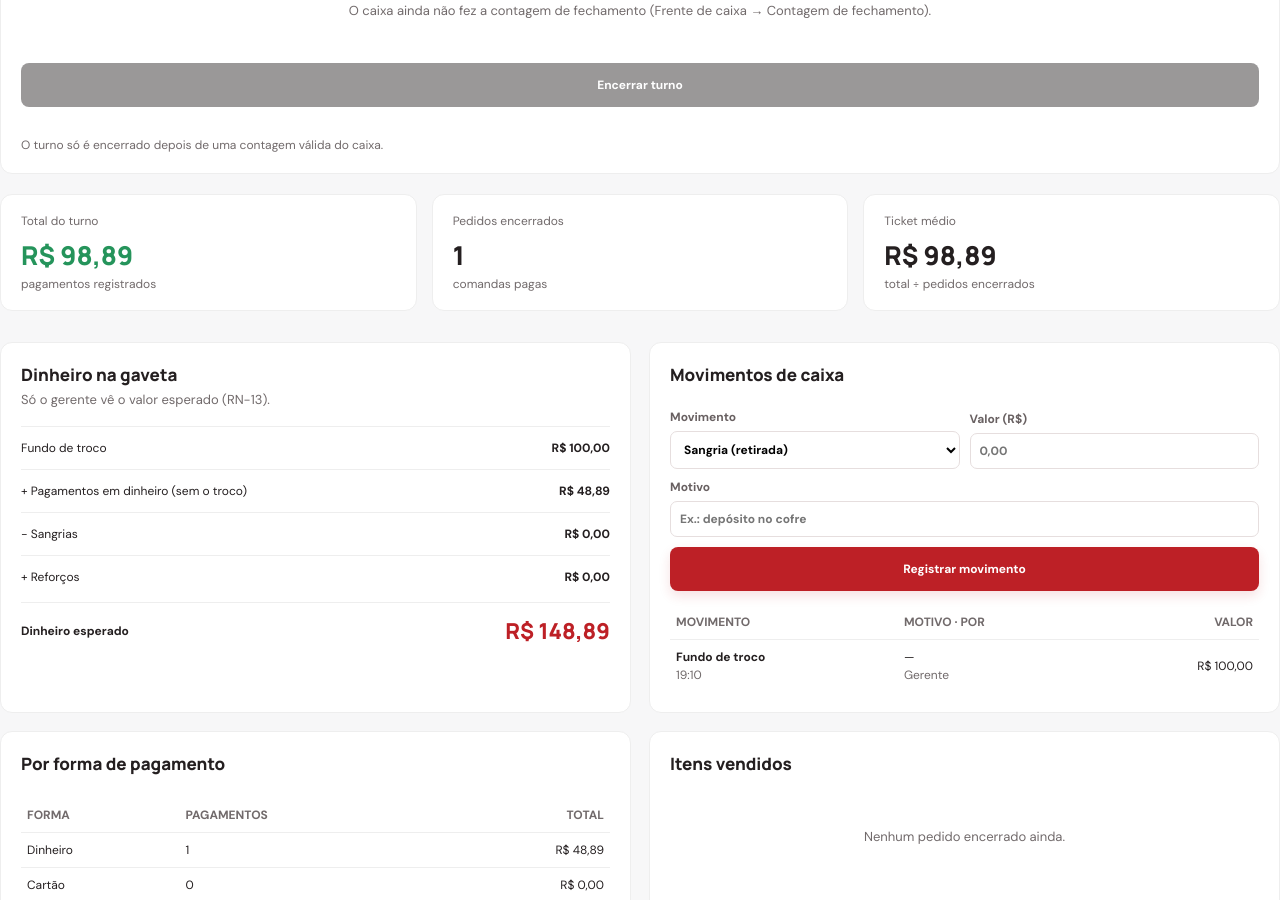
Movimentos de caixa nas telas (RN-13) › Gerente vê o dinheiro esperado no relatório e registra reforço no turno aberto
This screenshot has width=1280, height=900.
(page scrolled)
Check: the text "R$ 148,89" is shown, box [505,616,610,646]
Select "Reforço (suprimento)" in the dropdown labelled "Movimento" at (815, 450), box [670,431,960,469]
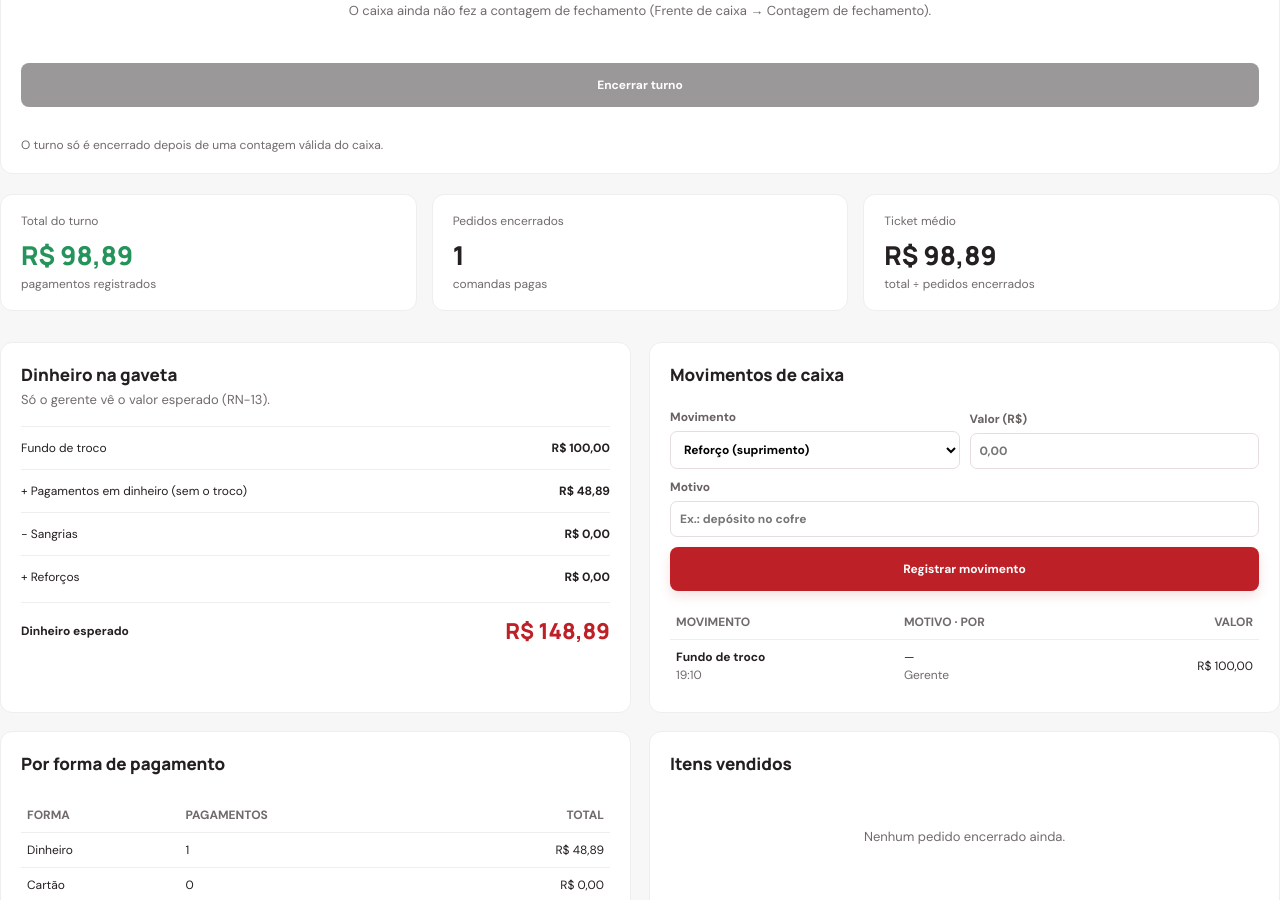
Type "20" into the number field labelled "Valor (R$)" at (1114, 451), box [970,433,1259,469]
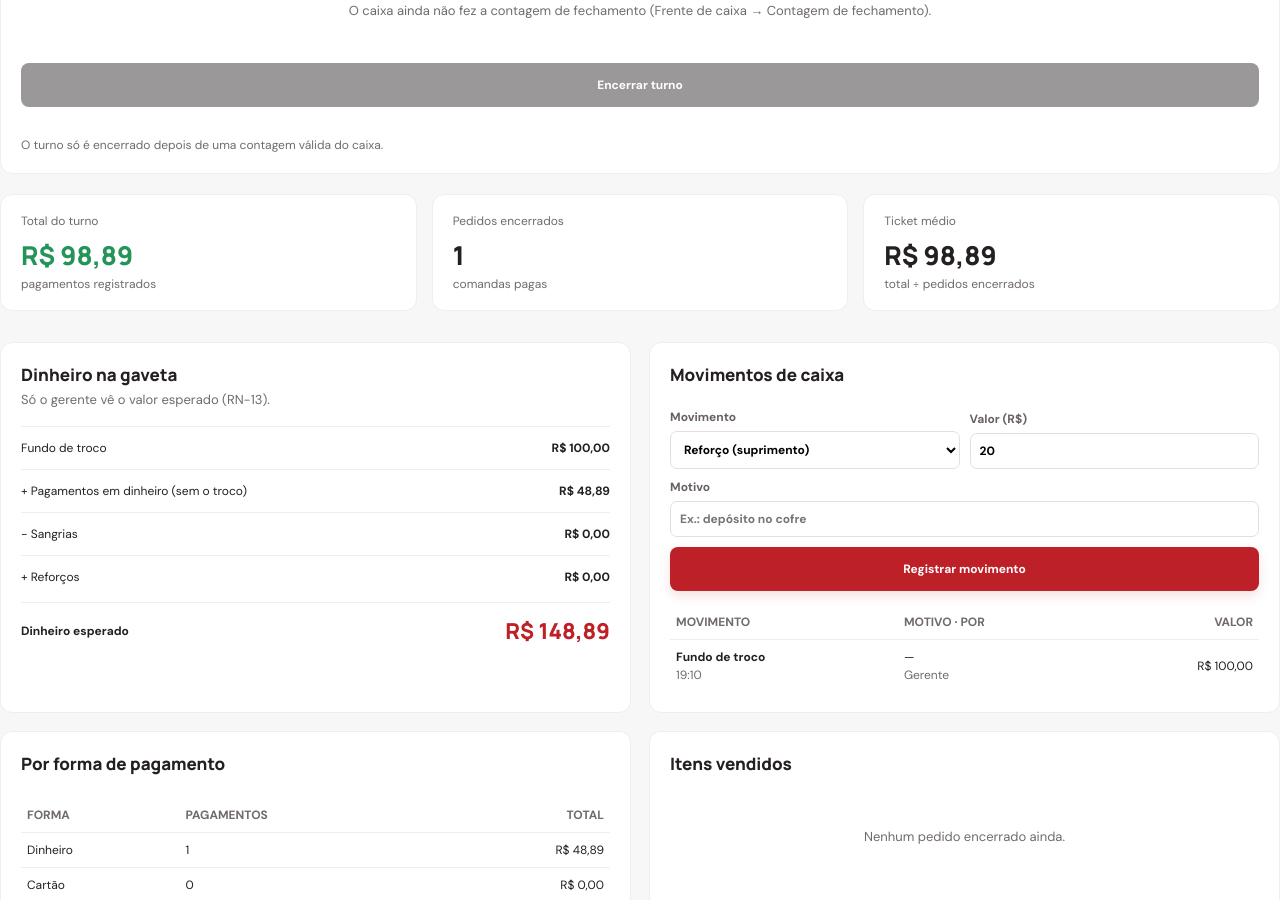
Type "Moedas" into the field labelled "Motivo" at (964, 519), box [670,501,1259,537]
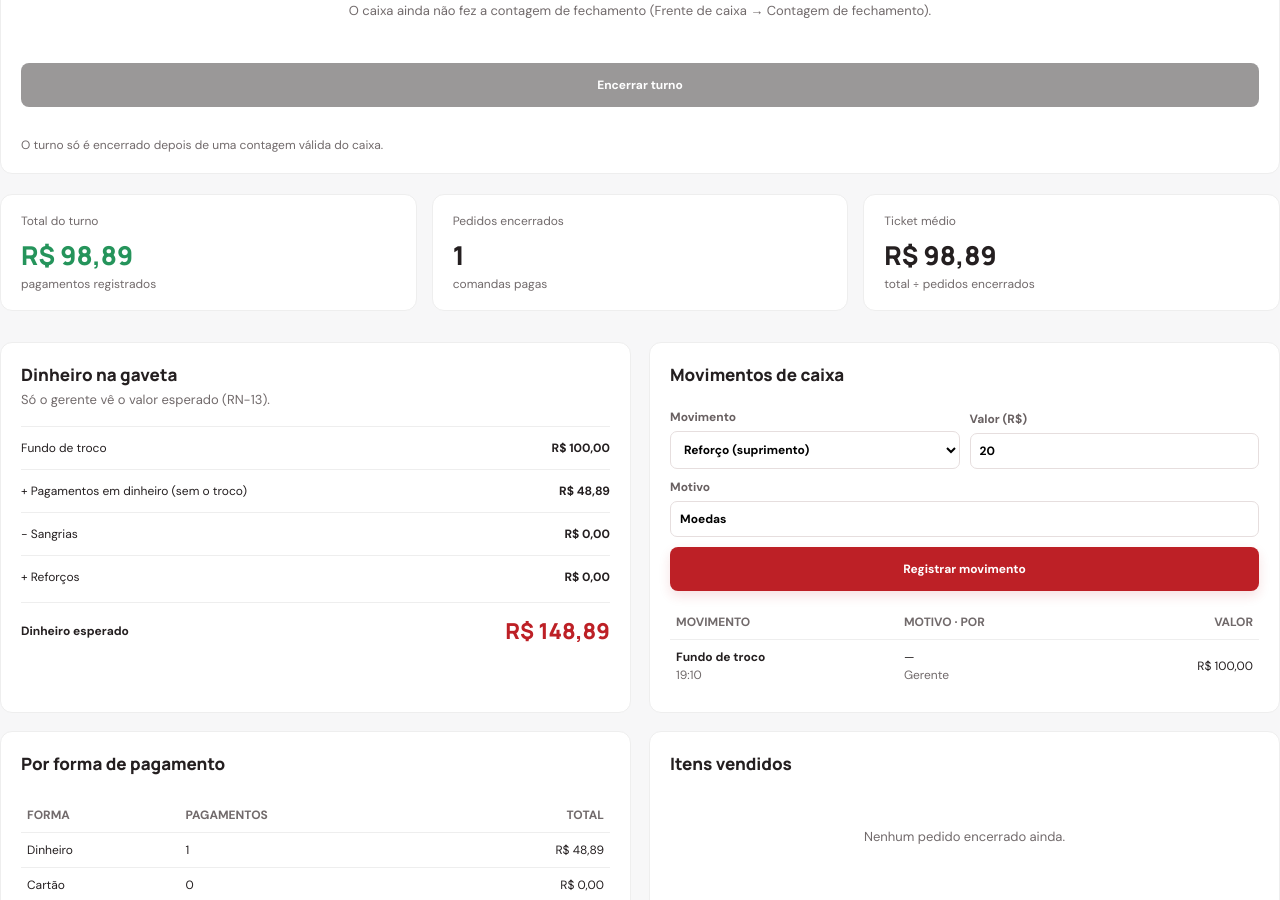
Click the button "Registrar movimento" at (964, 569), box [670,547,1259,591]
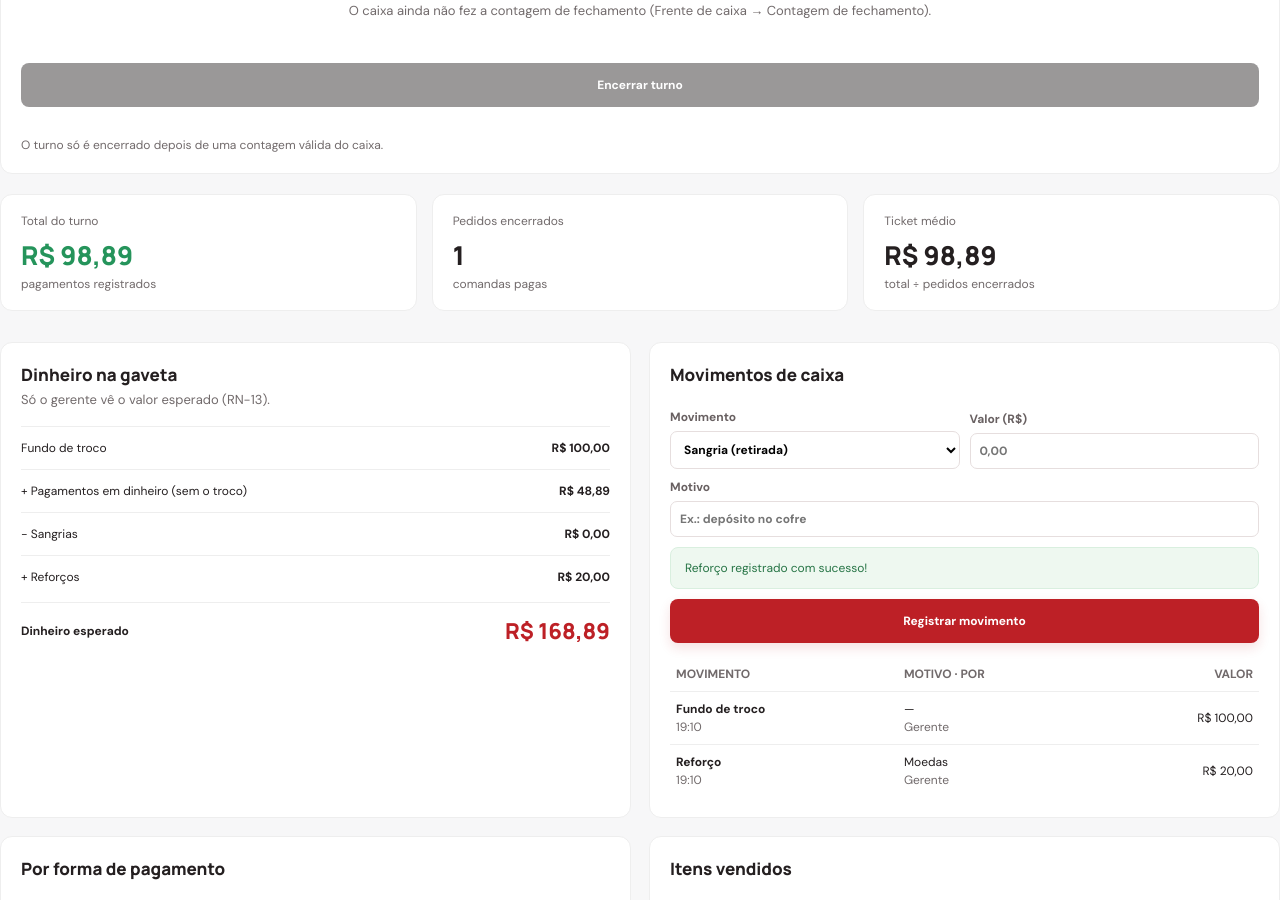
Check: the text "Reforço registrado com sucesso!" is shown, box [670,547,1259,589]
Check: the text "R$ 168,89" is shown, box [505,616,610,646]
Check: the text "Moedas" is shown, box [904,754,948,770]
